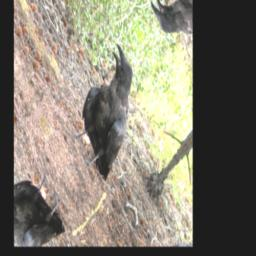Crow: (59, 39, 158, 192)
